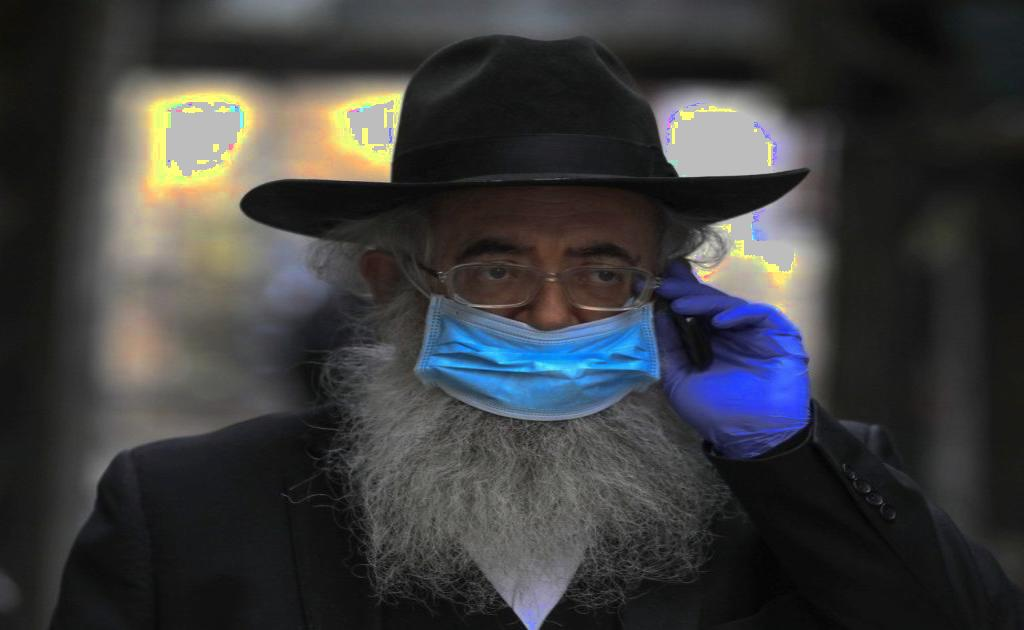mask_weared_incorrect: (364, 192, 681, 427)
